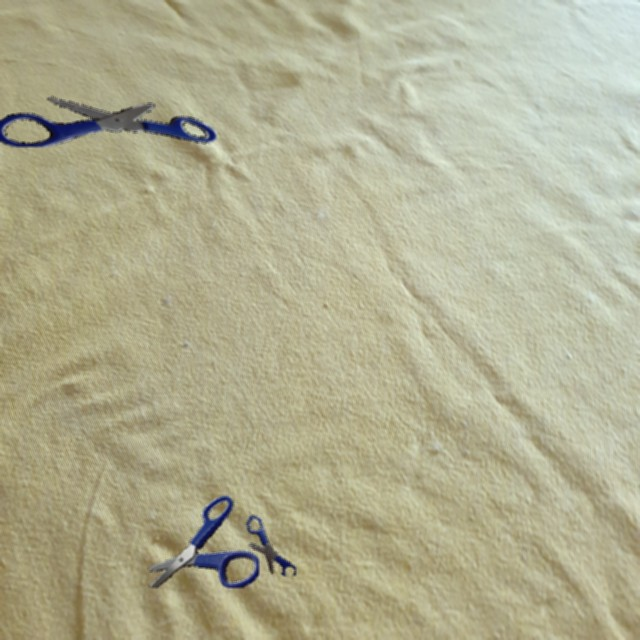scissors: (0, 96, 217, 147), (148, 495, 259, 588), (246, 515, 296, 576)
